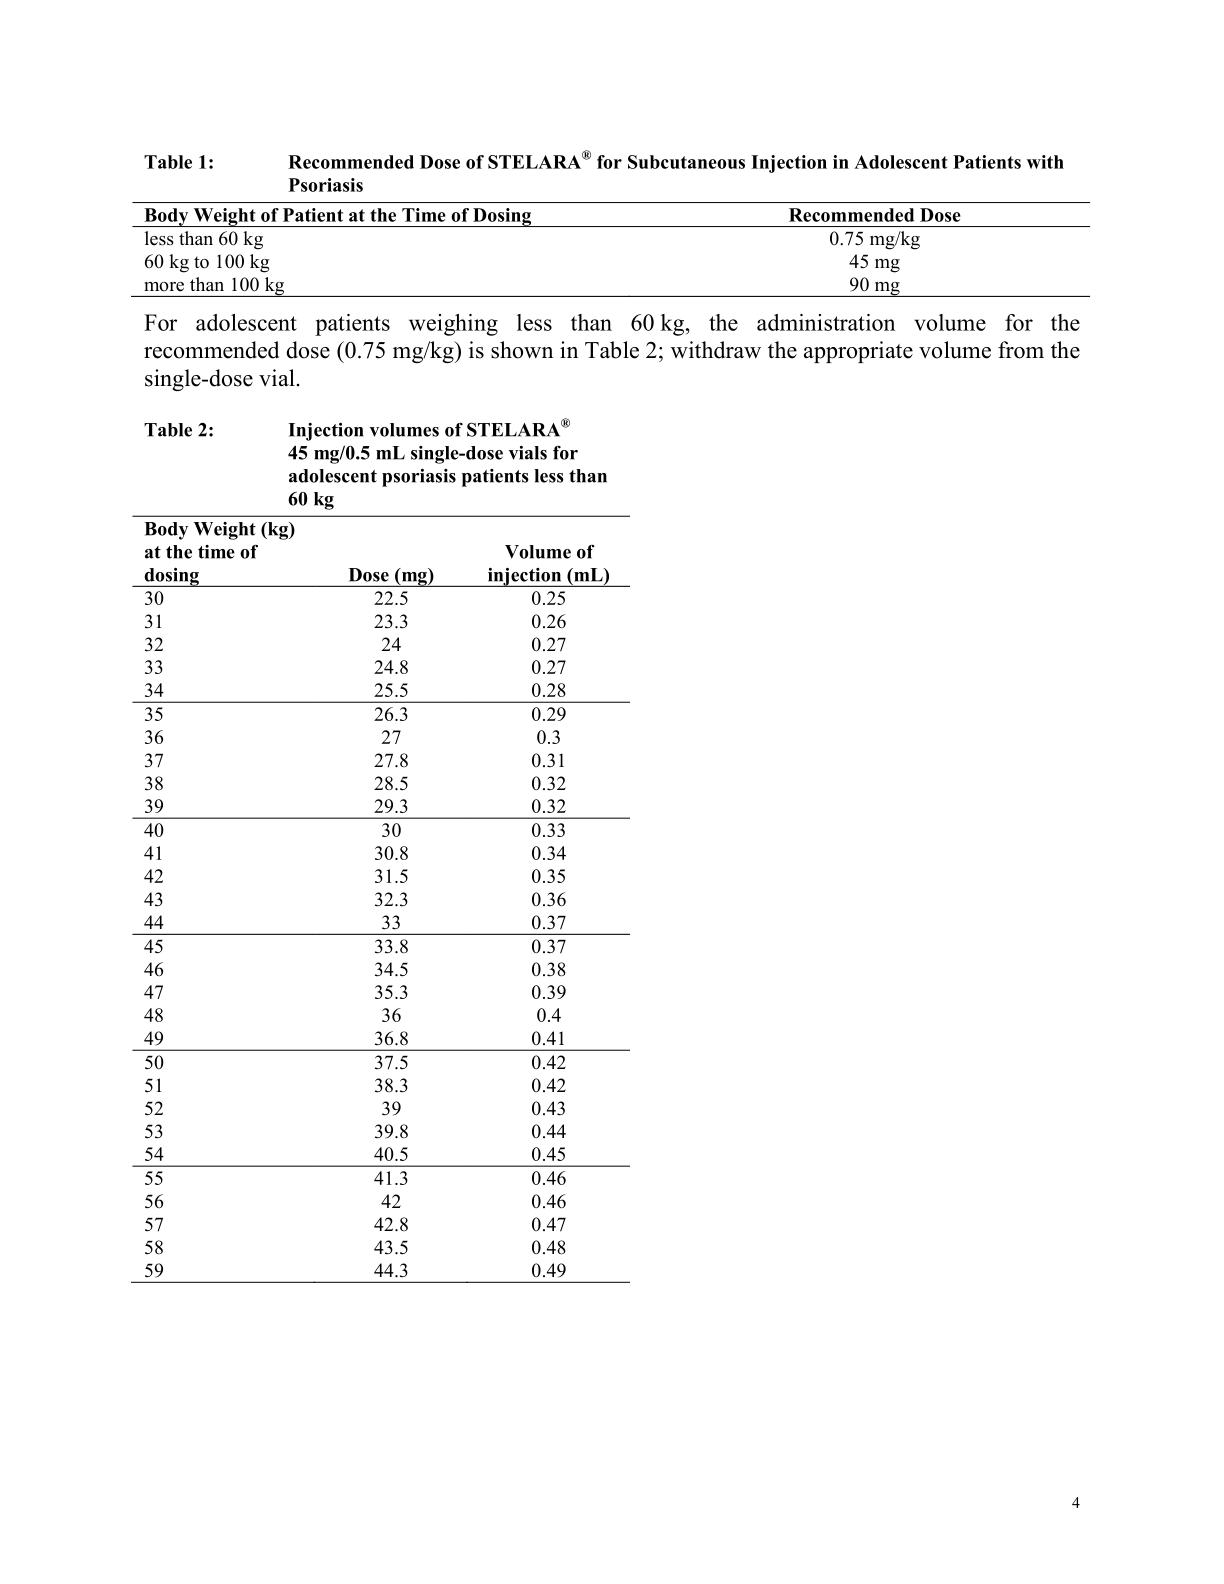partial_lined: (132, 513, 633, 1286), (127, 201, 1094, 300)
